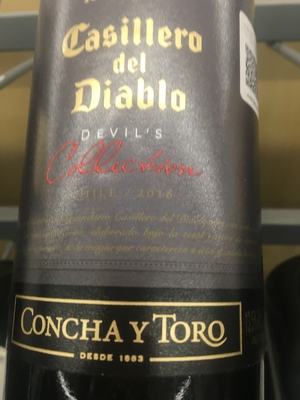casillero del diablo devils collection rojo: (19, 2, 262, 400)
